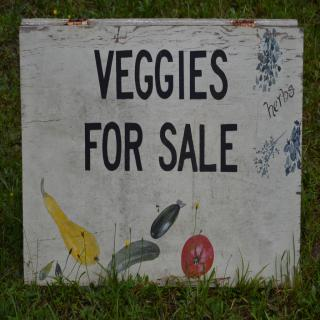tomato: (179, 233, 219, 282)
